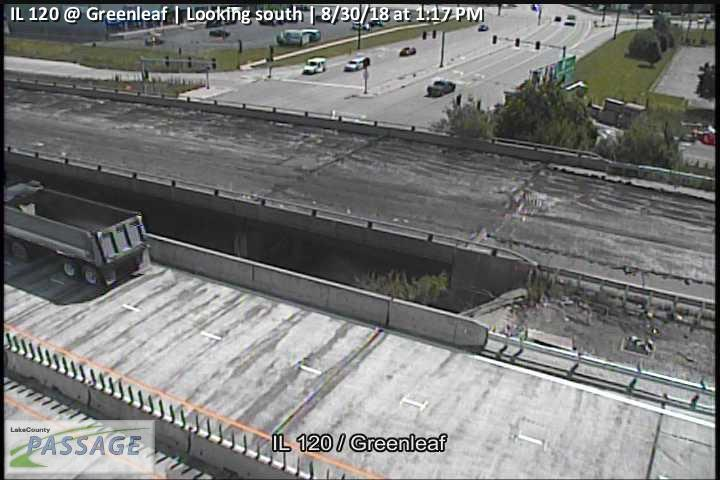SUV: (302, 56, 327, 74), (344, 56, 371, 72), (299, 27, 321, 41), (352, 19, 370, 30)
Sedan: (400, 46, 417, 55)
Truck: (1, 180, 150, 289), (277, 28, 310, 46), (427, 79, 456, 96)
